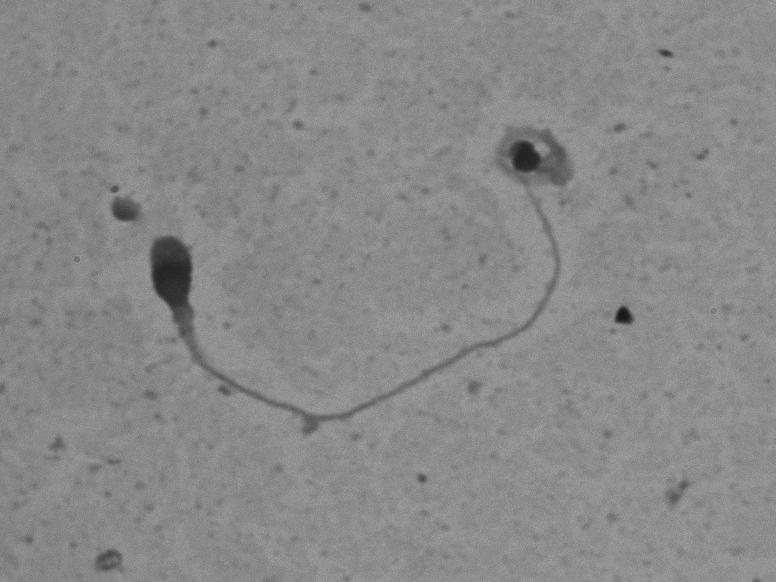Abnormal: (123, 123, 591, 450)
